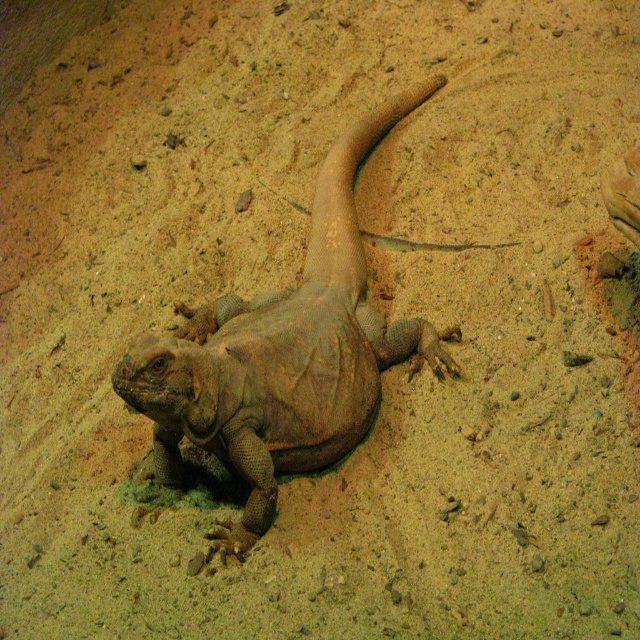Lizard: (124, 65, 528, 585)
